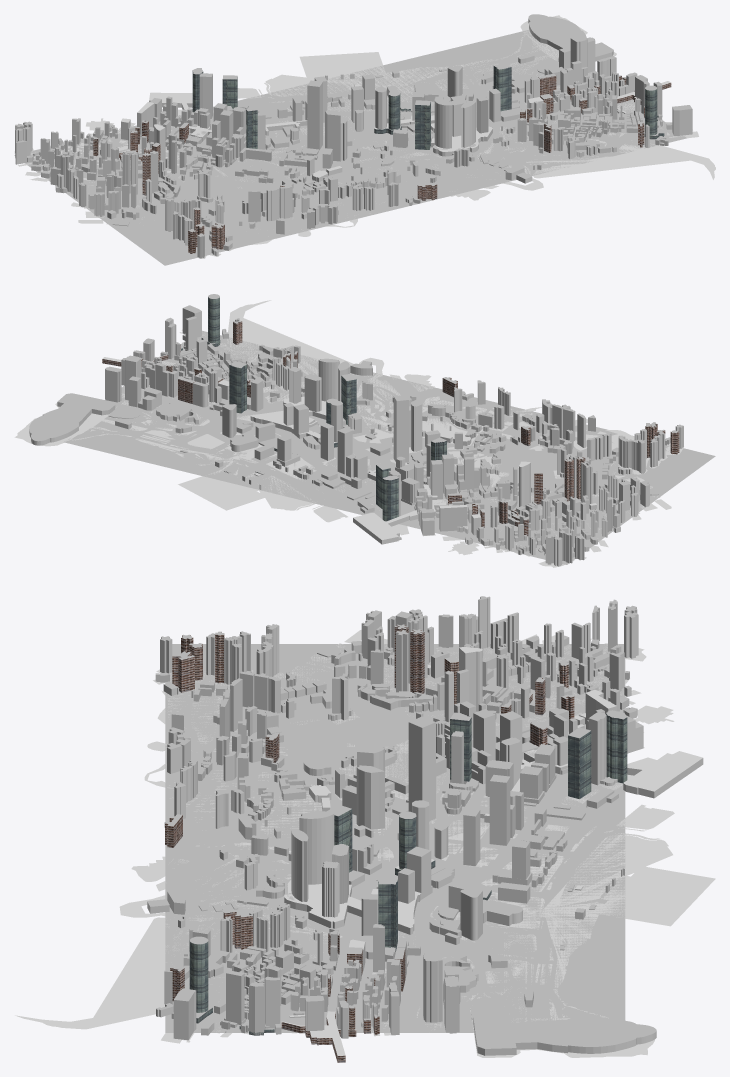
Rendered from BirbBuildings.fbx.
3 views of the same model, one above another, from view 1: azimuth 30°, elevation 25°; view 2: azimuth 150°, elevation 25°; view 3: azimuth 270°, elevation 25° (orthographic). The views are drawn at different scales.
Visible parts, largest first — view 1: Areas:building, EXPORT_GOOGLE_SAT_WM, Roof, Areas:landuse, Areas:natural, Areas:leisure, Areas:railway; view 2: Areas:building, EXPORT_GOOGLE_SAT_WM, Roof, Areas:landuse, Areas:natural, Areas:leisure, Areas:railway; view 3: Areas:building, EXPORT_GOOGLE_SAT_WM, Roof, Areas:landuse, Areas:leisure, Areas:natural, Areas:railway.
Part boxes in pixels (x1,y1,x2,y2): Areas:building: (15, 19, 692, 258); EXPORT_GOOGLE_SAT_WM: (14, 30, 686, 265); Roof: (15, 14, 692, 251); Areas:landuse: (14, 15, 698, 258); Areas:natural: (106, 82, 715, 251); Areas:leisure: (41, 67, 672, 183); Areas:railway: (149, 81, 670, 137); Areas:building: (29, 297, 683, 566); EXPORT_GOOGLE_SAT_WM: (63, 330, 715, 564); Roof: (29, 294, 683, 552); Areas:landuse: (14, 329, 683, 567); Areas:natural: (216, 300, 660, 504); Areas:leisure: (121, 339, 618, 550); Areas:railway: (102, 354, 447, 539); Areas:building: (147, 597, 703, 1062); EXPORT_GOOGLE_SAT_WM: (165, 644, 625, 1032); Roof: (147, 596, 656, 1048); Areas:landuse: (131, 630, 715, 1057); Areas:leisure: (179, 648, 672, 1037); Areas:natural: (15, 643, 596, 1029); Areas:railway: (281, 749, 702, 1055).
Bounding box in the file's own units: 273139 × 28300 × 186671.
